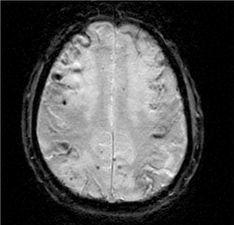Normal_Brain: (3, 2, 234, 225)
